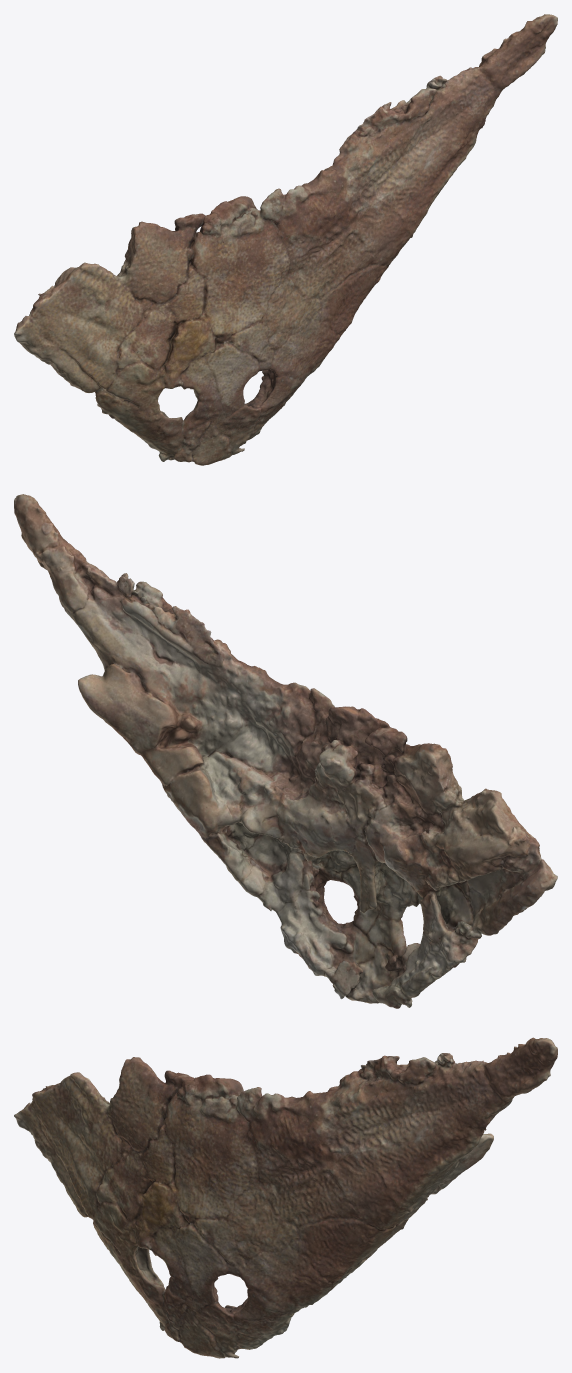
The picture shows the model from 3 angles, top to bottom: view 1: azimuth 30°, elevation 25°; view 2: azimuth 150°, elevation 25°; view 3: azimuth 330°, elevation 25°; orthographic projection. The views are drawn at different scales.
Parts seen in each view (by area): view 1: specimen; view 2: specimen; view 3: specimen.
Boxes of the visible parts, x1,y1,x2,y2 form: specimen: [14, 14, 557, 465]; specimen: [14, 494, 557, 1008]; specimen: [14, 1037, 557, 1358].
Size of the model in its own units: 0.3148 by 0.2186 by 0.0392.
Materials: 1 (1 with a texture image).
